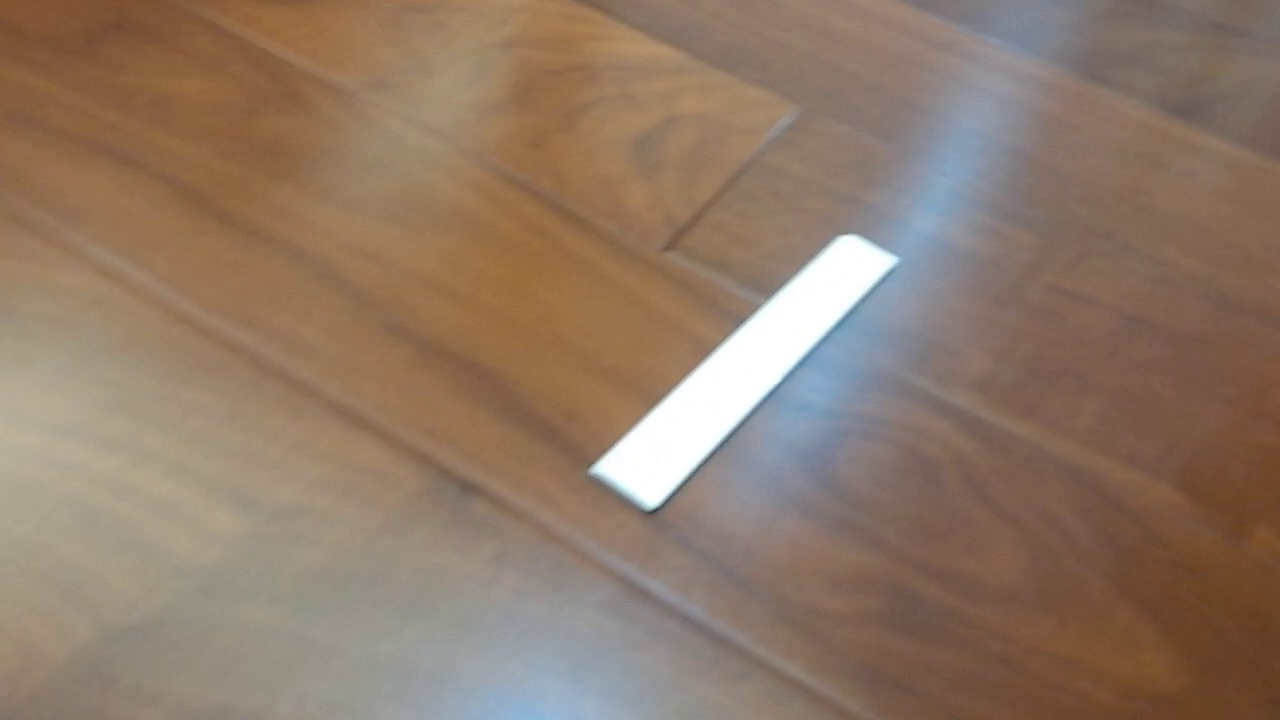ruler: (585, 231, 903, 515)
